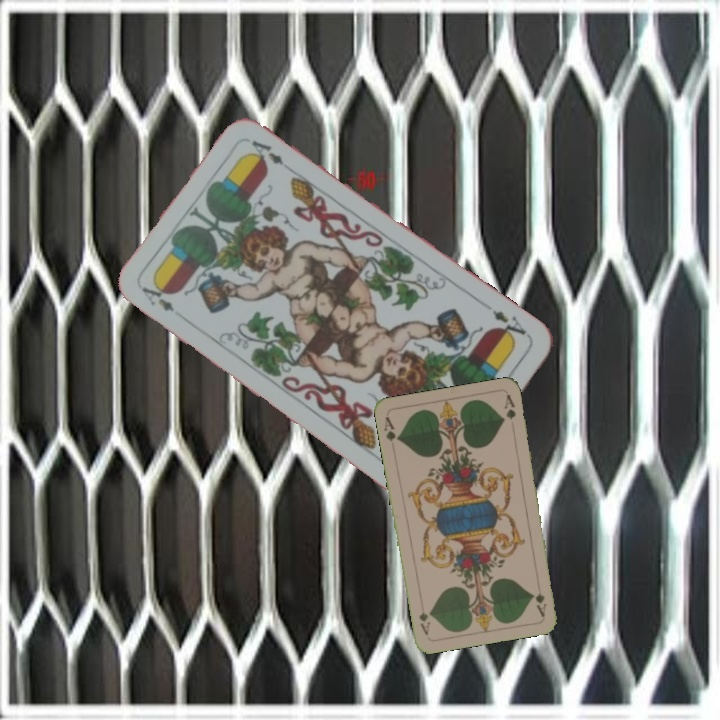EA: (488, 306, 529, 343), (137, 283, 177, 315)
GA: (380, 412, 402, 444), (531, 589, 549, 618)
